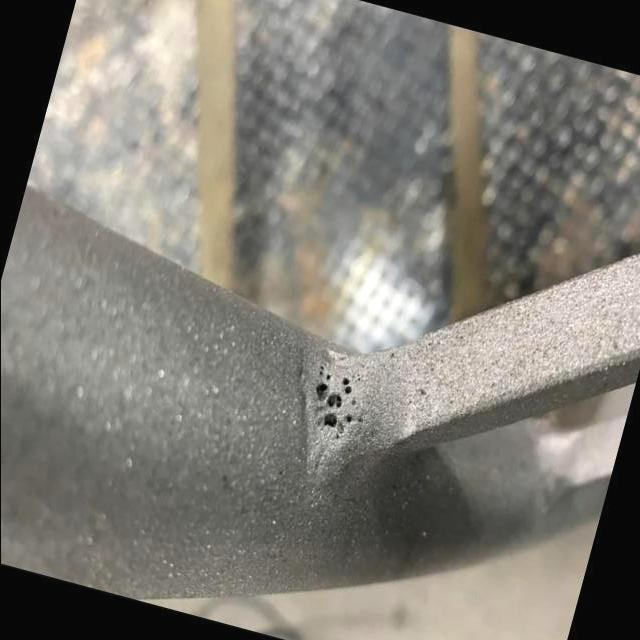defect: (312, 359, 332, 398), (322, 410, 339, 432), (326, 389, 341, 410), (340, 375, 351, 397), (343, 413, 352, 425), (353, 372, 362, 383), (355, 415, 364, 426), (349, 395, 356, 406)
